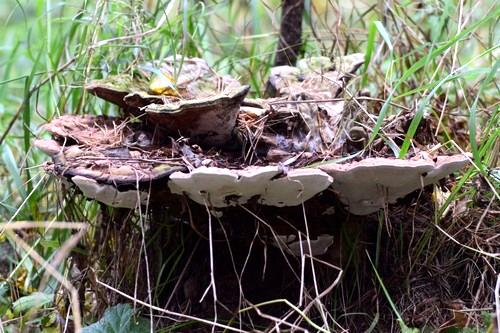Ganoderma - Fruit Body: (41, 117, 474, 227), (87, 54, 246, 116), (266, 49, 372, 106)
